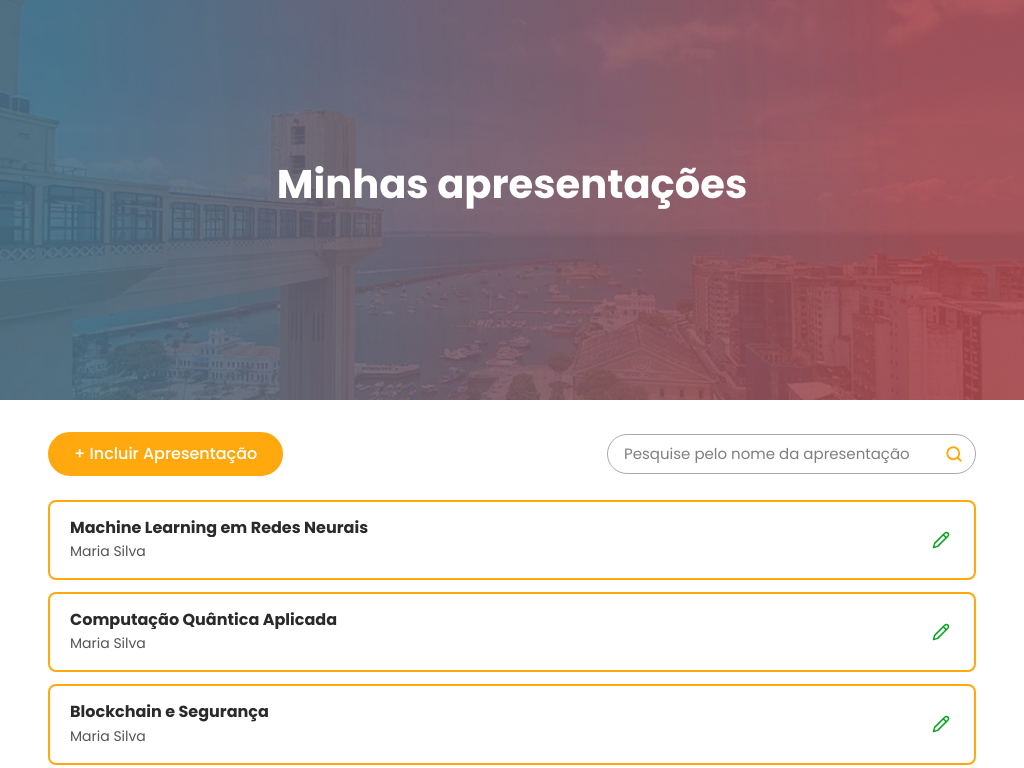
Test case: MinhasApresentacoesPage › search is case-insensitive
Check: the heading "Machine Learning em Redes Neurais" is shown, box x1=70 y1=516 x2=368 y2=539
Type "machine learning" into the field with placeholder "Pesquise pelo nome da apresentação". click: (770, 454)
box: x1=608 y1=435 x2=933 y2=473
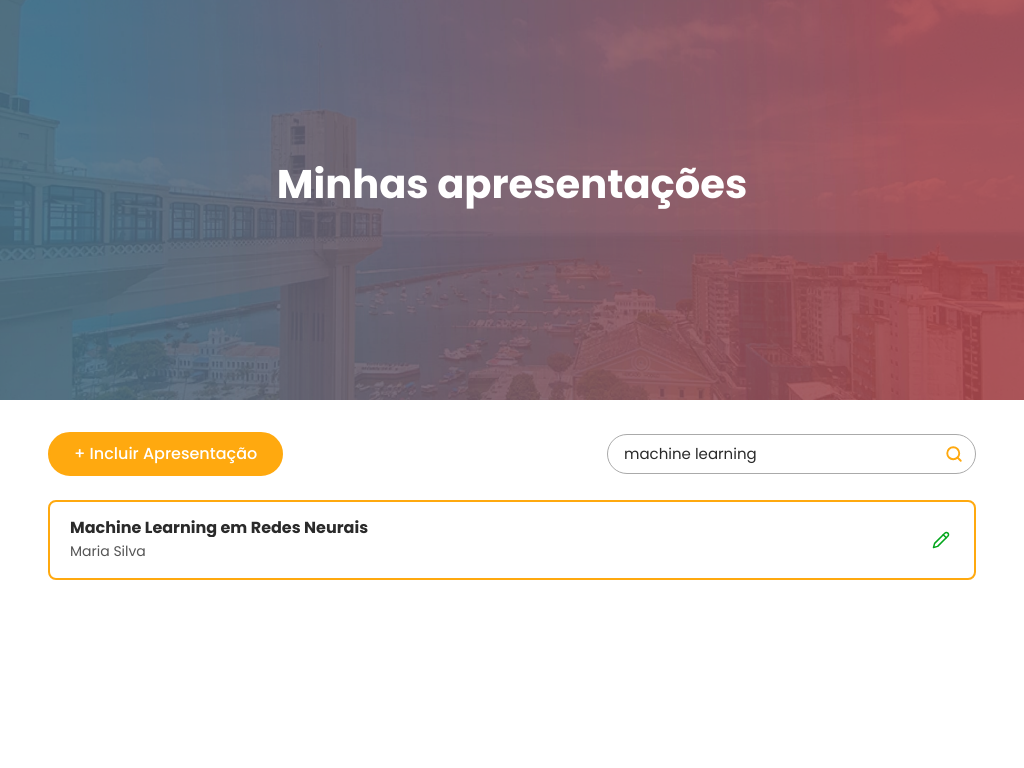
Check: the heading "Machine Learning em Redes Neurais" is shown, box x1=70 y1=516 x2=368 y2=539
Check: the heading "Computação Quântica Aplicada" is gone
